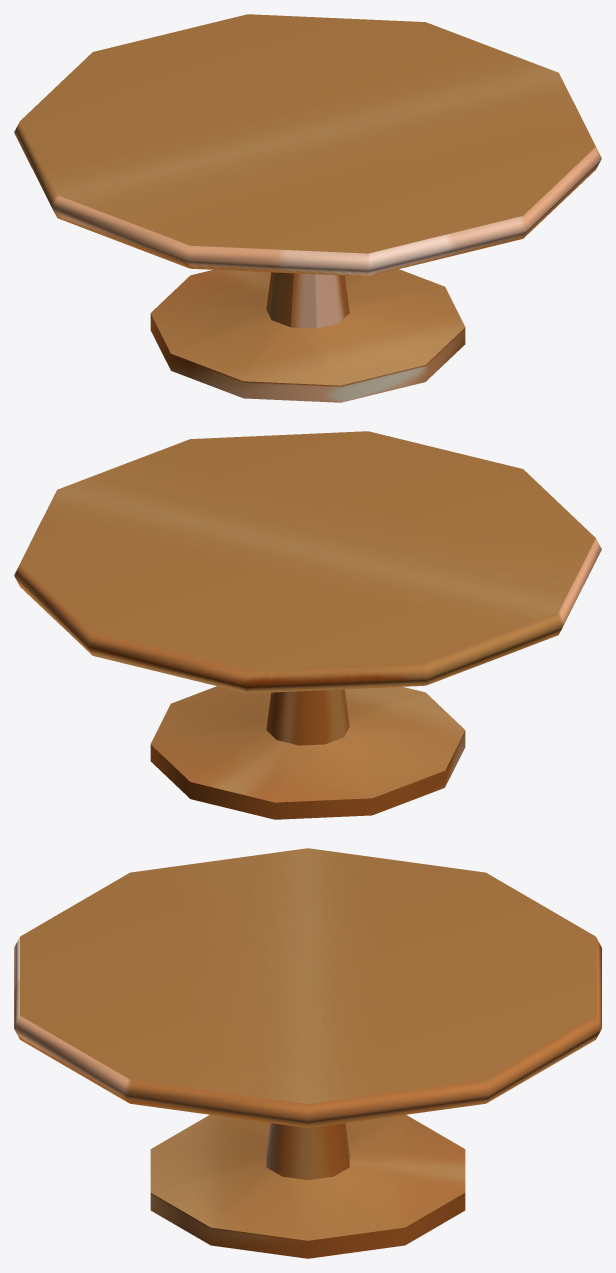
Rendered from Copper_Display_Small.fbx.
3 renders of one model, top to bottom at view 1: azimuth 30°, elevation 25°; view 2: azimuth 150°, elevation 25°; view 3: azimuth 270°, elevation 25°, orthographic. The views are drawn at different scales.
Parts seen in each view (by area): view 1: Copper_Display_Small; view 2: Copper_Display_Small; view 3: Copper_Display_Small.
Part boxes in pixels (x1,y1,x2,y2): Copper_Display_Small: (14,14,601,402); Copper_Display_Small: (14,431,601,819); Copper_Display_Small: (14,848,601,1258).
Size of the model in its own units: 58.74 by 22.41 by 55.86.
